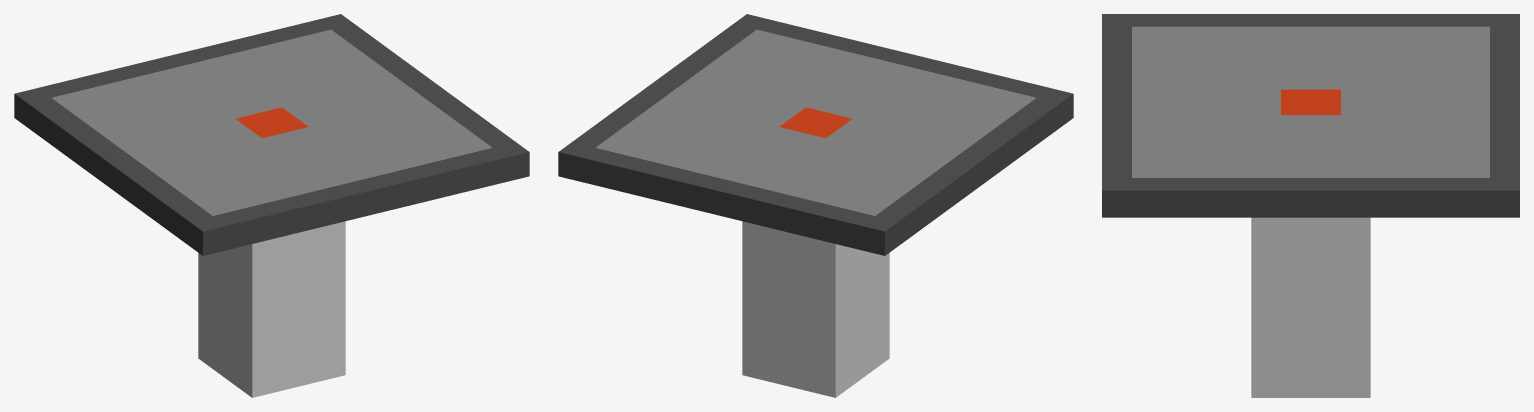
Rendered from Kloshe-0.obj.
3 renders of one model, left to right at view 1: azimuth 30°, elevation 25°; view 2: azimuth 150°, elevation 25°; view 3: azimuth 270°, elevation 25°, orthographic. The views are drawn at different scales.
Size of the model in its own units: 1.4 by 1 by 1.4.
Materials: 1 (1 with a texture image).
